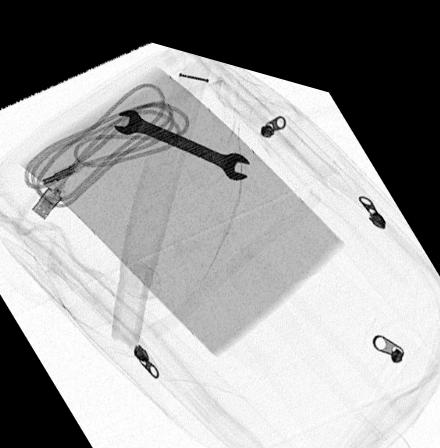Wrench: (110, 99, 249, 169)
